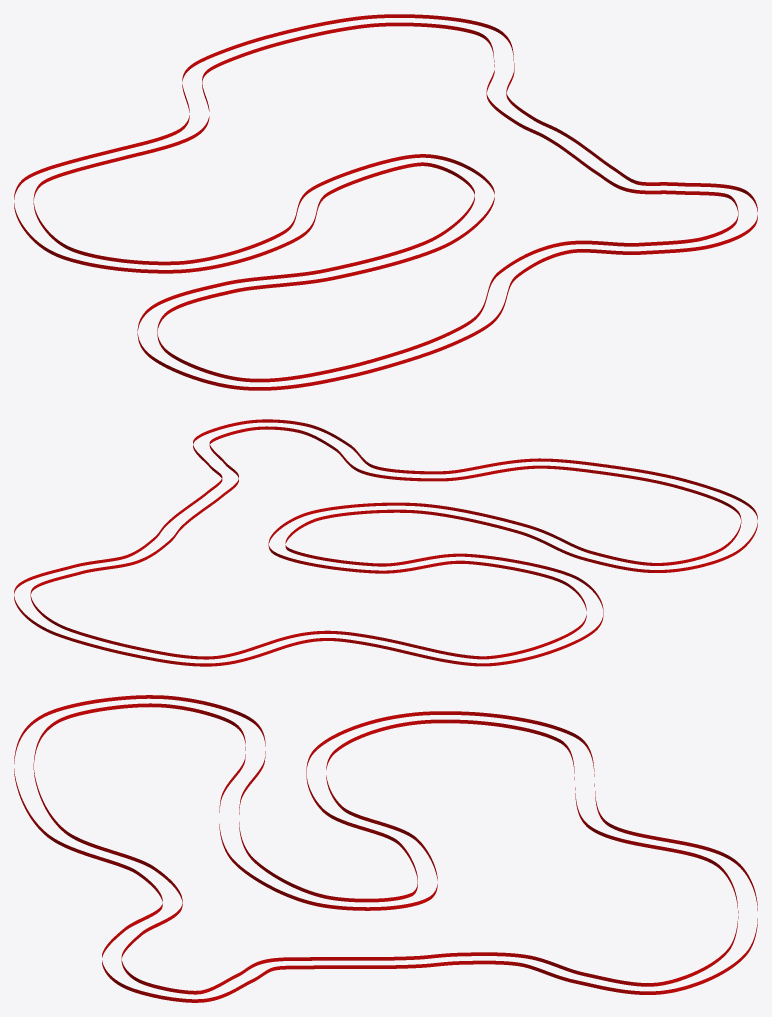
Rendered from leitplanken_track_03_colmesh.fbx.
3 renders of one model, top to bottom at view 1: azimuth 30°, elevation 25°; view 2: azimuth 150°, elevation 25°; view 3: azimuth 270°, elevation 25°, orthographic. The views are drawn at different scales.
Visible parts, largest first — view 1: Mesh; view 2: Mesh; view 3: Mesh.
Boxes of the visible parts, x1=… form: Mesh: x1=14, y1=14, x2=757, y2=390; Mesh: x1=14, y1=419, x2=757, y2=666; Mesh: x1=14, y1=695, x2=757, y2=1002.
Size of the model in its own units: 126463 by 1825 by 131750.
